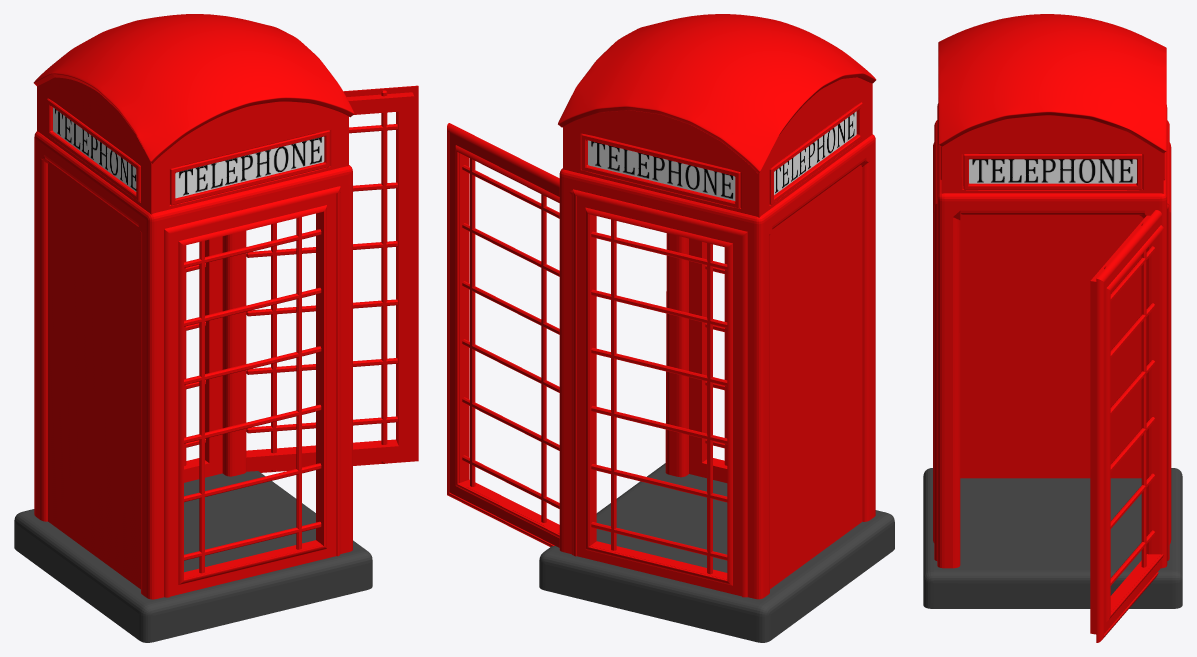
Rendered from phonebox.gltf.
The picture shows the model from 3 angles, left to right: view 1: azimuth 30°, elevation 25°; view 2: azimuth 150°, elevation 25°; view 3: azimuth 270°, elevation 25°; orthographic projection. The views are drawn at different scales.
Parts seen in each view (by area): view 1: Box05, Box03, Box01, Sphere01, Rectangle06, Box02, Rectangle10, Box09, Box12, Rectangle08, Plane02.002, Rectangle04 (+3 smaller); view 2: Box05, Box03, Sphere01, Box01, Rectangle08, Rectangle10, Box02, Box10, Box12, Rectangle06, Plane01, Rectangle01 (+3 smaller); view 3: Box05, Box01, Sphere01, Box03, Rectangle10, Box02, Plane03, Box12, Rectangle03, Rectangle06, Rectangle08.
Boxes of the visible parts, left/top/right/bottom form: Box05: left=48, top=162, right=140, bottom=589; Box03: left=34, top=131, right=352, bottom=599; Box01: left=14, top=471, right=372, bottom=642; Sphere01: left=33, top=14, right=354, bottom=163; Rectangle06: left=164, top=186, right=340, bottom=597; Box02: left=37, top=77, right=348, bottom=214; Rectangle10: left=246, top=85, right=418, bottom=472; Box09: left=184, top=217, right=321, bottom=573; Box12: left=246, top=90, right=397, bottom=471; Rectangle08: left=184, top=236, right=222, bottom=482; Plane02.002: left=175, top=136, right=324, bottom=198; Rectangle04: left=170, top=130, right=329, bottom=205; Box05: left=770, top=165, right=862, bottom=588; Box03: left=559, top=134, right=875, bottom=599; Sphere01: left=558, top=14, right=876, bottom=173; Box01: left=539, top=463, right=894, bottom=642; Rectangle08: left=573, top=189, right=747, bottom=597; Rectangle10: left=447, top=123, right=577, bottom=555; Box02: left=563, top=77, right=872, bottom=217; Box10: left=591, top=219, right=727, bottom=574; Box12: left=462, top=158, right=559, bottom=522; Rectangle06: left=689, top=238, right=727, bottom=482; Plane01: left=588, top=140, right=735, bottom=200; Rectangle01: left=581, top=134, right=740, bottom=208; Box05: left=960, top=212, right=1143, bottom=478; Box01: left=923, top=468, right=1182, bottom=608; Sphere01: left=938, top=14, right=1166, bottom=153; Box03: left=937, top=103, right=1167, bottom=568; Rectangle10: left=1090, top=201, right=1168, bottom=642; Box02: left=941, top=115, right=1163, bottom=193; Plane03: left=969, top=159, right=1136, bottom=183; Box12: left=1104, top=222, right=1154, bottom=585; Rectangle03: left=963, top=154, right=1142, bottom=189; Rectangle06: left=933, top=120, right=937, bottom=560; Rectangle08: left=1167, top=120, right=1171, bottom=559.
Size of what is drawn, in the model's own units: 0.4669 by 0.6561 by 0.2971.
3 materials, 1 textured.
